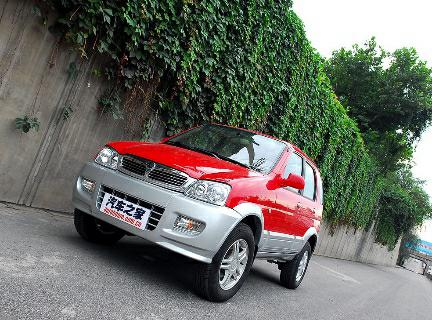众泰-2008: (62, 117, 336, 308)
